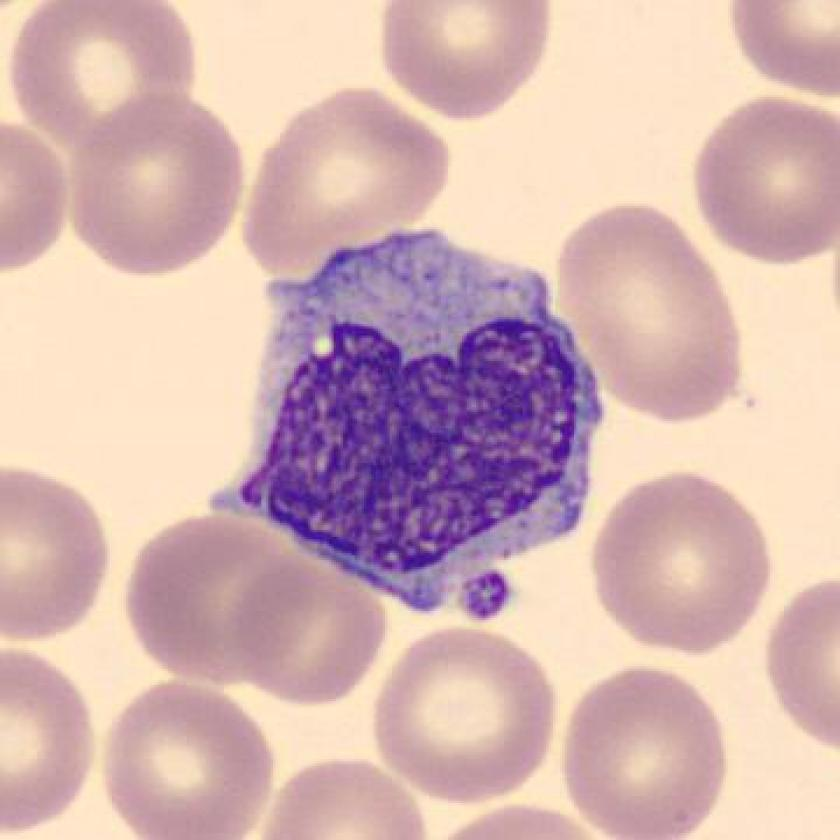monocyte: (195, 217, 617, 638)
